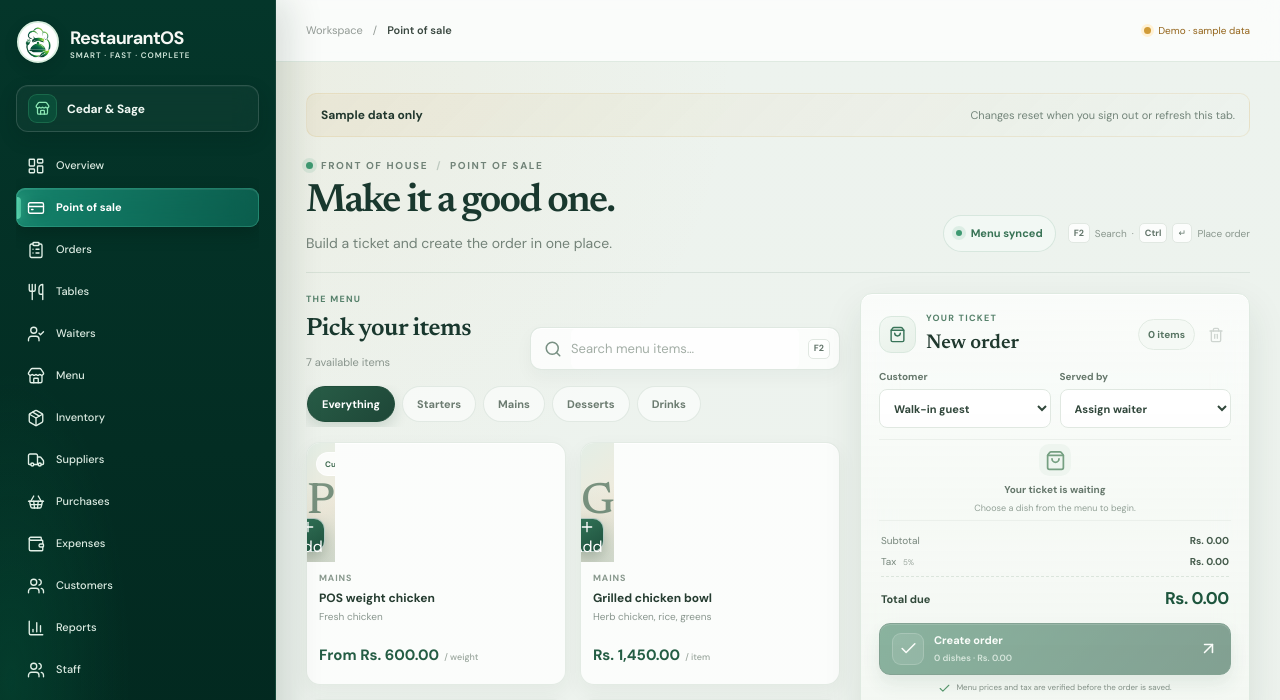
Test case: authentication routes › supports direct bill mode and adding by Enter in the point of sale flow
Expected: the button "takeaway" is not shown
Expected: the button "delivery" is not shown
In the field with placeholder "Search menu items…": (685, 349) top-left (571, 328), bottom-right (799, 369), type "lemonade"
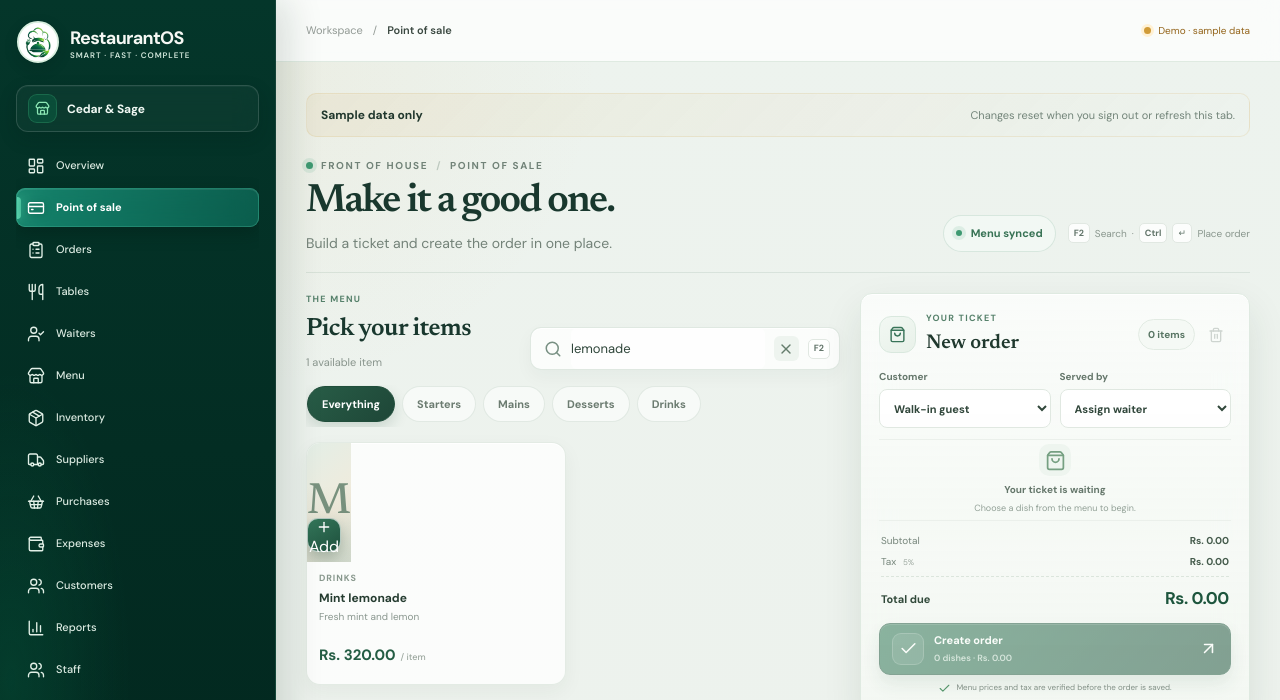
Press Enter in the field with placeholder "Search menu items…", box top-left (571, 328), bottom-right (765, 369)
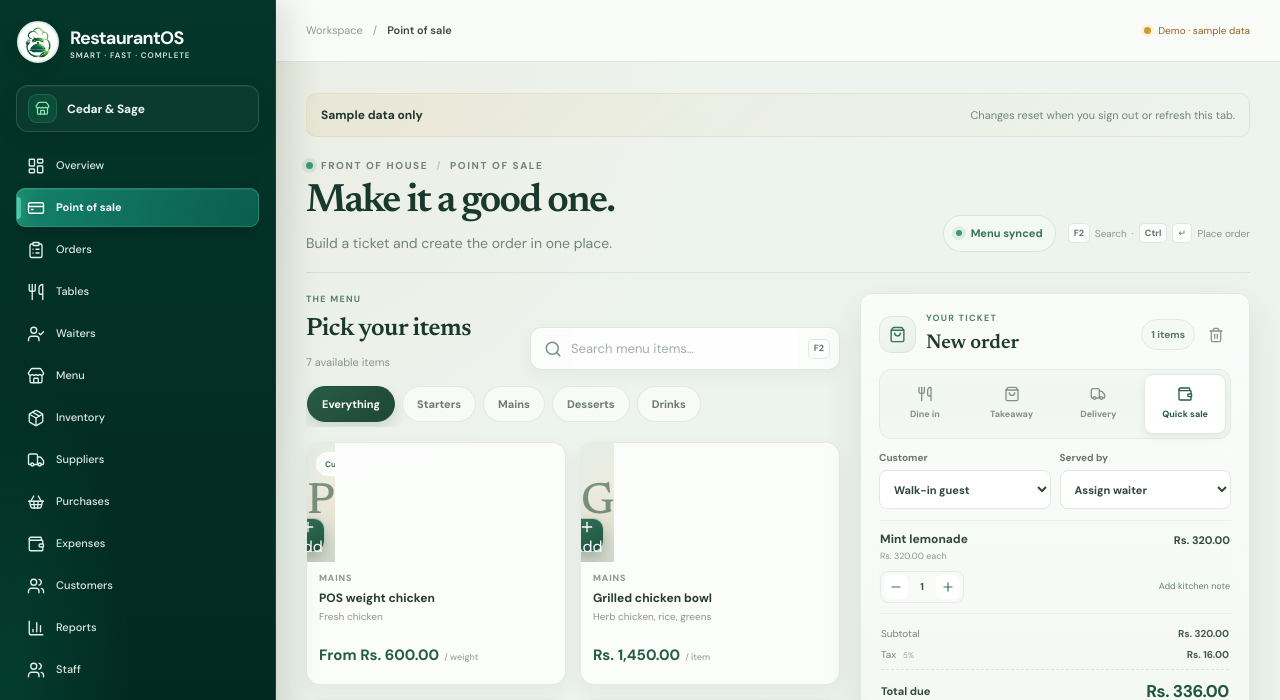
Expected: the text "1 items" is shown, top-left (1141, 319), bottom-right (1195, 350)
